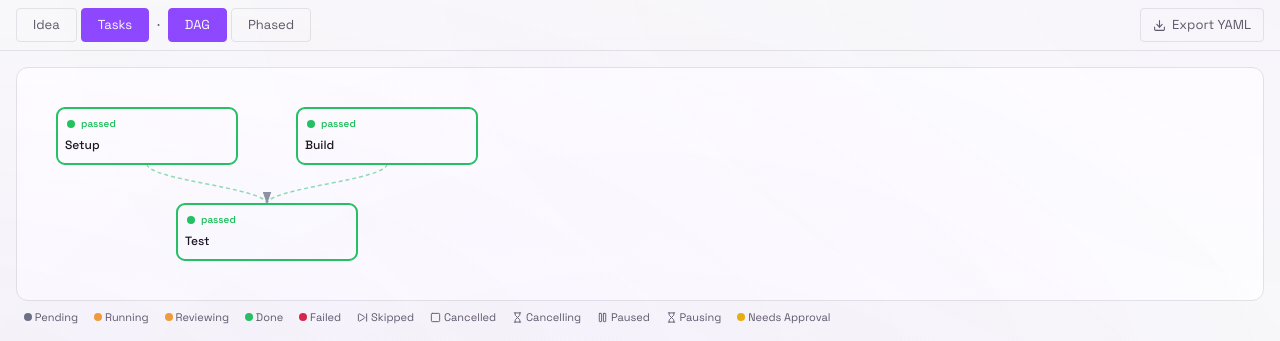
Test case: ProjectDetailPage › switches to Idea tab showing spec content
Click the button "Idea". click: point(46, 25)
box: [16, 8, 77, 42]
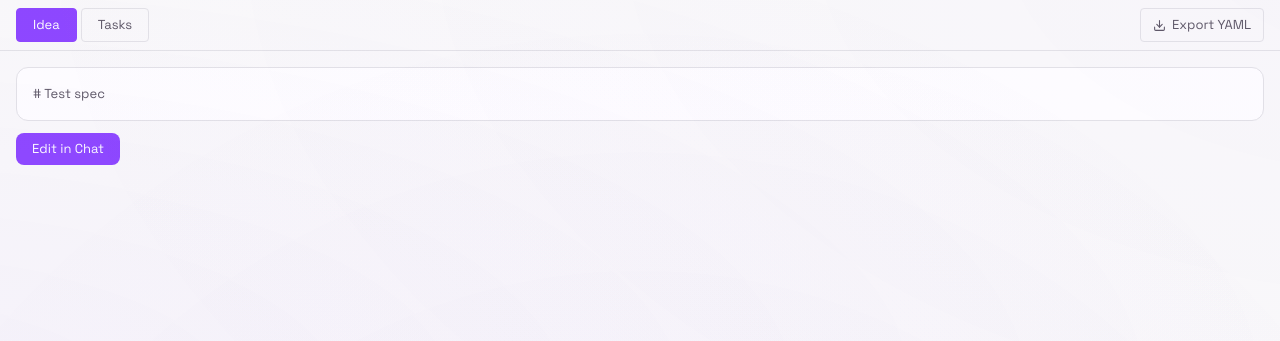
Now the text "# Test spec" is shown, box [16, 67, 1264, 121]
Now the button "Edit in Chat" is shown, box [16, 133, 120, 165]
